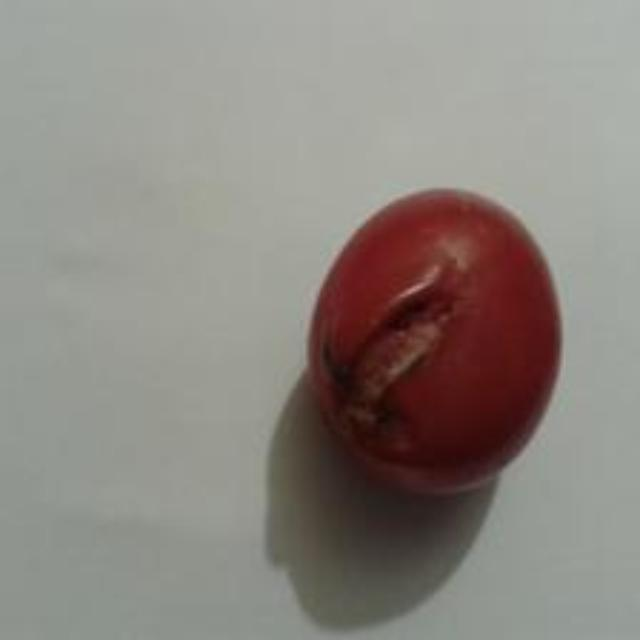defect: (305, 183, 565, 498)
